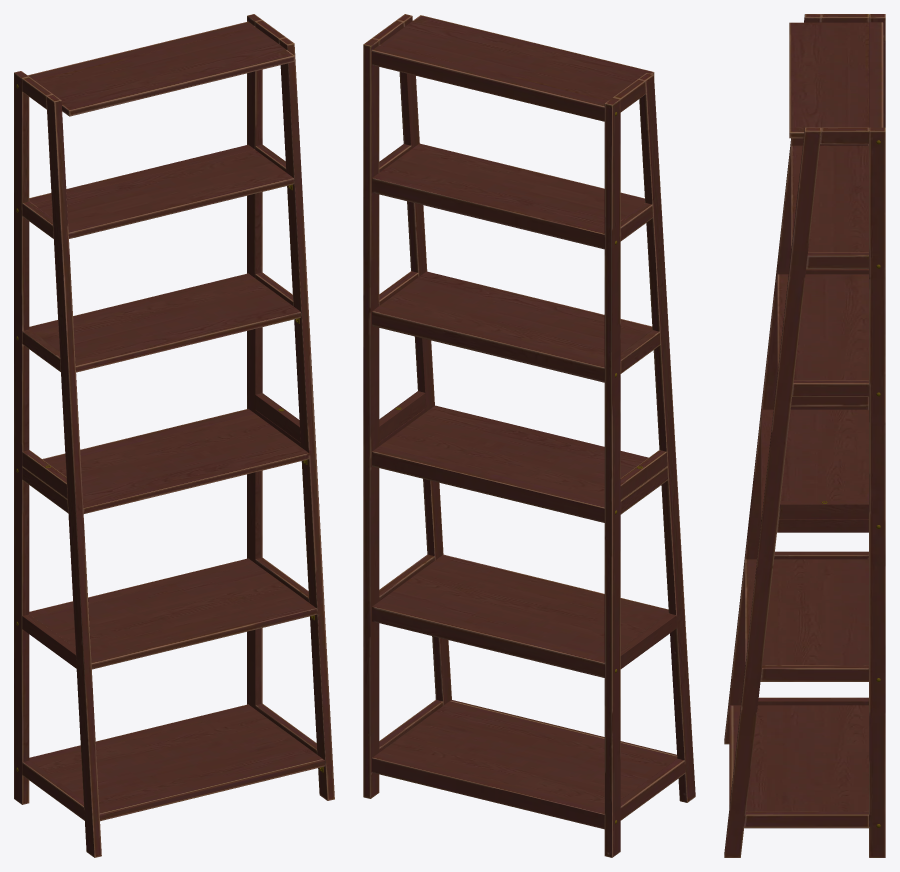
File: abo-B07PQS58XN.glb
The picture shows the model from 3 angles, left to right: view 1: azimuth 30°, elevation 25°; view 2: azimuth 150°, elevation 25°; view 3: azimuth 270°, elevation 25°; orthographic projection. The views are drawn at different scales.
Size of the model in its own units: 0.6599 by 1.89 by 0.381.
Materials: 1 (1 with a texture image).
